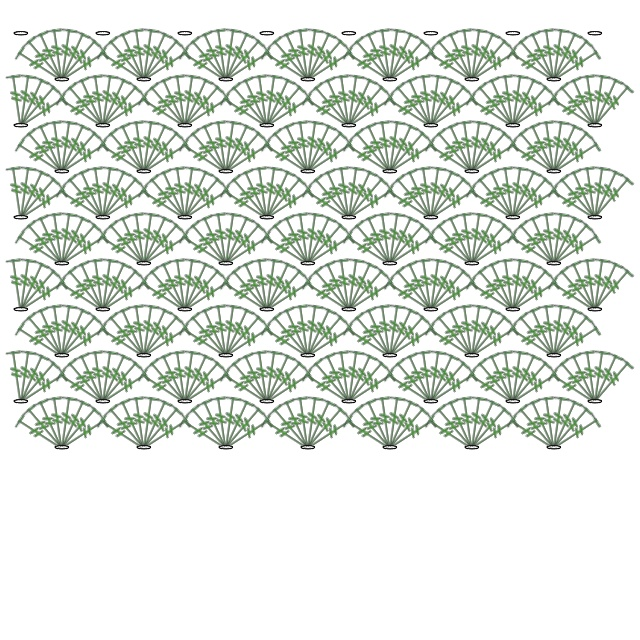chain: (12, 30, 30, 38), (94, 30, 112, 38), (176, 30, 194, 38), (258, 30, 276, 38), (340, 30, 358, 38), (422, 30, 440, 38), (504, 30, 522, 38), (586, 30, 604, 38), (53, 76, 71, 84), (135, 76, 153, 84), (217, 76, 235, 84), (299, 76, 317, 84), (381, 76, 399, 84), (463, 76, 481, 84), (545, 76, 563, 84), (12, 122, 30, 130), (94, 122, 112, 130), (176, 122, 194, 130), (258, 122, 276, 130), (340, 122, 358, 130), (422, 122, 440, 130), (504, 122, 522, 130), (586, 122, 604, 130), (53, 168, 71, 176), (135, 168, 153, 176), (217, 168, 235, 176), (299, 168, 317, 176), (381, 168, 399, 176), (463, 168, 481, 176), (545, 168, 563, 176), (12, 214, 30, 222), (94, 214, 112, 222), (176, 214, 194, 222), (258, 214, 276, 222), (340, 214, 358, 222), (422, 214, 440, 222), (504, 214, 522, 222), (586, 214, 604, 222), (53, 260, 71, 268), (135, 260, 153, 268), (217, 260, 235, 268), (299, 260, 317, 268), (381, 260, 399, 268), (463, 260, 481, 268), (545, 260, 563, 268), (12, 306, 30, 314), (94, 306, 112, 314), (176, 306, 194, 314), (258, 306, 276, 314), (340, 306, 358, 314), (422, 306, 440, 314), (504, 306, 522, 314), (586, 306, 604, 314), (53, 352, 71, 360), (135, 352, 153, 360), (217, 352, 235, 360), (299, 352, 317, 360), (381, 352, 399, 360), (463, 352, 481, 360), (545, 352, 563, 360), (12, 398, 30, 406), (94, 398, 112, 406), (176, 398, 194, 406), (258, 398, 276, 406), (340, 398, 358, 406), (422, 398, 440, 406), (504, 398, 522, 406), (586, 398, 604, 406), (53, 444, 71, 452), (135, 444, 153, 452), (217, 444, 235, 452), (299, 444, 317, 452), (381, 444, 399, 452), (463, 444, 481, 452), (545, 444, 563, 452)
fan: (21, 35, 69, 86), (55, 35, 103, 86), (103, 35, 151, 86), (137, 35, 185, 86), (185, 35, 233, 86), (219, 35, 267, 86), (267, 35, 315, 86), (301, 35, 349, 86), (349, 35, 397, 86), (383, 35, 431, 86), (431, 35, 479, 86), (465, 35, 513, 86), (513, 35, 561, 86), (547, 35, 595, 86), (14, 81, 62, 132), (62, 81, 110, 132), (96, 81, 144, 132), (144, 81, 192, 132), (178, 81, 226, 132), (226, 81, 274, 132), (260, 81, 308, 132), (308, 81, 356, 132), (342, 81, 390, 132), (390, 81, 438, 132), (424, 81, 472, 132), (472, 81, 520, 132), (506, 81, 554, 132), (554, 81, 602, 132), (588, 81, 636, 132), (21, 127, 69, 178), (55, 127, 103, 178), (103, 127, 151, 178), (137, 127, 185, 178), (185, 127, 233, 178), (219, 127, 267, 178), (267, 127, 315, 178), (301, 127, 349, 178), (349, 127, 397, 178), (383, 127, 431, 178), (431, 127, 479, 178), (465, 127, 513, 178), (513, 127, 561, 178), (547, 127, 595, 178), (14, 173, 62, 224), (62, 173, 110, 224), (96, 173, 144, 224), (144, 173, 192, 224), (178, 173, 226, 224), (226, 173, 274, 224), (260, 173, 308, 224), (308, 173, 356, 224), (342, 173, 390, 224), (390, 173, 438, 224), (424, 173, 472, 224), (472, 173, 520, 224), (506, 173, 554, 224), (554, 173, 602, 224), (588, 173, 636, 224), (21, 219, 69, 270), (55, 219, 103, 270), (103, 219, 151, 270), (137, 219, 185, 270), (185, 219, 233, 270), (219, 219, 267, 270), (267, 219, 315, 270), (301, 219, 349, 270), (349, 219, 397, 270), (383, 219, 431, 270), (431, 219, 479, 270), (465, 219, 513, 270), (513, 219, 561, 270), (547, 219, 595, 270), (14, 265, 62, 316), (62, 265, 110, 316), (96, 265, 144, 316), (144, 265, 192, 316), (178, 265, 226, 316), (226, 265, 274, 316), (260, 265, 308, 316), (308, 265, 356, 316), (342, 265, 390, 316), (390, 265, 438, 316), (424, 265, 472, 316), (472, 265, 520, 316), (506, 265, 554, 316), (554, 265, 602, 316), (588, 265, 636, 316), (21, 311, 69, 362), (55, 311, 103, 362), (103, 311, 151, 362), (137, 311, 185, 362), (185, 311, 233, 362), (219, 311, 267, 362), (267, 311, 315, 362), (301, 311, 349, 362), (349, 311, 397, 362), (383, 311, 431, 362), (431, 311, 479, 362), (465, 311, 513, 362), (513, 311, 561, 362), (547, 311, 595, 362), (14, 357, 62, 408), (62, 357, 110, 408), (96, 357, 144, 408), (144, 357, 192, 408), (178, 357, 226, 408), (226, 357, 274, 408), (260, 357, 308, 408), (308, 357, 356, 408), (342, 357, 390, 408), (390, 357, 438, 408), (424, 357, 472, 408), (472, 357, 520, 408), (506, 357, 554, 408), (554, 357, 602, 408), (588, 357, 636, 408), (21, 403, 69, 454), (55, 403, 103, 454), (103, 403, 151, 454), (137, 403, 185, 454), (185, 403, 233, 454), (219, 403, 267, 454), (267, 403, 315, 454), (301, 403, 349, 454), (349, 403, 397, 454), (383, 403, 431, 454), (431, 403, 479, 454), (465, 403, 513, 454), (513, 403, 561, 454), (547, 403, 595, 454), (13, 44, 67, 88), (57, 44, 111, 88), (95, 44, 149, 88), (139, 44, 193, 88), (177, 44, 231, 88), (221, 44, 275, 88), (259, 44, 313, 88), (303, 44, 357, 88), (341, 44, 395, 88), (385, 44, 439, 88), (423, 44, 477, 88), (467, 44, 521, 88), (505, 44, 559, 88), (549, 44, 603, 88), (16, 90, 70, 134), (54, 90, 108, 134), (98, 90, 152, 134), (136, 90, 190, 134), (180, 90, 234, 134), (218, 90, 272, 134), (262, 90, 316, 134), (300, 90, 354, 134), (344, 90, 398, 134), (382, 90, 436, 134), (426, 90, 480, 134), (464, 90, 518, 134), (508, 90, 562, 134), (546, 90, 600, 134), (13, 136, 67, 180), (57, 136, 111, 180), (95, 136, 149, 180), (139, 136, 193, 180), (177, 136, 231, 180), (221, 136, 275, 180), (259, 136, 313, 180), (303, 136, 357, 180), (341, 136, 395, 180), (385, 136, 439, 180), (423, 136, 477, 180), (467, 136, 521, 180), (505, 136, 559, 180), (549, 136, 603, 180), (16, 182, 70, 226), (54, 182, 108, 226), (98, 182, 152, 226), (136, 182, 190, 226), (180, 182, 234, 226), (218, 182, 272, 226), (262, 182, 316, 226), (300, 182, 354, 226), (344, 182, 398, 226), (382, 182, 436, 226), (426, 182, 480, 226), (464, 182, 518, 226), (508, 182, 562, 226), (546, 182, 600, 226), (13, 228, 67, 272), (57, 228, 111, 272), (95, 228, 149, 272), (139, 228, 193, 272), (177, 228, 231, 272), (221, 228, 275, 272), (259, 228, 313, 272), (303, 228, 357, 272), (341, 228, 395, 272), (385, 228, 439, 272), (423, 228, 477, 272), (467, 228, 521, 272), (505, 228, 559, 272), (549, 228, 603, 272), (16, 274, 70, 318), (54, 274, 108, 318), (98, 274, 152, 318), (136, 274, 190, 318), (180, 274, 234, 318), (218, 274, 272, 318), (262, 274, 316, 318), (300, 274, 354, 318), (344, 274, 398, 318), (382, 274, 436, 318), (426, 274, 480, 318), (464, 274, 518, 318), (508, 274, 562, 318), (546, 274, 600, 318), (13, 320, 67, 364), (57, 320, 111, 364), (95, 320, 149, 364), (139, 320, 193, 364), (177, 320, 231, 364), (221, 320, 275, 364), (259, 320, 313, 364), (303, 320, 357, 364), (341, 320, 395, 364), (385, 320, 439, 364), (423, 320, 477, 364), (467, 320, 521, 364), (505, 320, 559, 364), (549, 320, 603, 364), (16, 366, 70, 410), (54, 366, 108, 410), (98, 366, 152, 410), (136, 366, 190, 410), (180, 366, 234, 410), (218, 366, 272, 410), (262, 366, 316, 410), (300, 366, 354, 410), (344, 366, 398, 410), (382, 366, 436, 410), (426, 366, 480, 410), (464, 366, 518, 410), (508, 366, 562, 410), (546, 366, 600, 410), (13, 412, 67, 456), (57, 412, 111, 456), (95, 412, 149, 456), (139, 412, 193, 456), (177, 412, 231, 456), (221, 412, 275, 456), (259, 412, 313, 456), (303, 412, 357, 456), (341, 412, 395, 456), (385, 412, 439, 456), (423, 412, 477, 456), (467, 412, 521, 456), (505, 412, 559, 456), (549, 412, 603, 456), (32, 29, 70, 84), (54, 29, 92, 84), (114, 29, 152, 84), (136, 29, 174, 84), (196, 29, 234, 84), (218, 29, 256, 84), (278, 29, 316, 84), (300, 29, 338, 84), (360, 29, 398, 84), (382, 29, 420, 84), (442, 29, 480, 84), (464, 29, 502, 84), (524, 29, 562, 84), (546, 29, 584, 84), (13, 75, 51, 130), (73, 75, 111, 130), (95, 75, 133, 130), (155, 75, 193, 130), (177, 75, 215, 130), (237, 75, 275, 130), (259, 75, 297, 130), (319, 75, 357, 130), (341, 75, 379, 130), (401, 75, 439, 130), (423, 75, 461, 130), (483, 75, 521, 130), (505, 75, 543, 130), (565, 75, 603, 130), (587, 75, 625, 130), (32, 121, 70, 176), (54, 121, 92, 176), (114, 121, 152, 176), (136, 121, 174, 176), (196, 121, 234, 176), (218, 121, 256, 176), (278, 121, 316, 176), (300, 121, 338, 176), (360, 121, 398, 176), (382, 121, 420, 176), (442, 121, 480, 176), (464, 121, 502, 176), (524, 121, 562, 176), (546, 121, 584, 176), (13, 167, 51, 222), (73, 167, 111, 222), (95, 167, 133, 222), (155, 167, 193, 222), (177, 167, 215, 222), (237, 167, 275, 222), (259, 167, 297, 222), (319, 167, 357, 222), (341, 167, 379, 222), (401, 167, 439, 222), (423, 167, 461, 222), (483, 167, 521, 222), (505, 167, 543, 222), (565, 167, 603, 222), (587, 167, 625, 222), (32, 213, 70, 268), (54, 213, 92, 268), (114, 213, 152, 268), (136, 213, 174, 268), (196, 213, 234, 268), (218, 213, 256, 268), (278, 213, 316, 268), (300, 213, 338, 268), (360, 213, 398, 268), (382, 213, 420, 268), (442, 213, 480, 268), (464, 213, 502, 268), (524, 213, 562, 268), (546, 213, 584, 268), (13, 259, 51, 314), (73, 259, 111, 314), (95, 259, 133, 314), (155, 259, 193, 314), (177, 259, 215, 314), (237, 259, 275, 314), (259, 259, 297, 314), (319, 259, 357, 314), (341, 259, 379, 314), (401, 259, 439, 314), (423, 259, 461, 314), (483, 259, 521, 314), (505, 259, 543, 314), (565, 259, 603, 314), (587, 259, 625, 314), (32, 305, 70, 360), (54, 305, 92, 360), (114, 305, 152, 360), (136, 305, 174, 360), (196, 305, 234, 360), (218, 305, 256, 360), (278, 305, 316, 360), (300, 305, 338, 360), (360, 305, 398, 360), (382, 305, 420, 360), (442, 305, 480, 360), (464, 305, 502, 360), (524, 305, 562, 360), (546, 305, 584, 360), (13, 351, 51, 406), (73, 351, 111, 406), (95, 351, 133, 406), (155, 351, 193, 406), (177, 351, 215, 406), (237, 351, 275, 406), (259, 351, 297, 406), (319, 351, 357, 406), (341, 351, 379, 406), (401, 351, 439, 406), (423, 351, 461, 406), (483, 351, 521, 406), (505, 351, 543, 406), (565, 351, 603, 406), (587, 351, 625, 406), (32, 397, 70, 452), (54, 397, 92, 452), (114, 397, 152, 452), (136, 397, 174, 452), (196, 397, 234, 452), (218, 397, 256, 452), (278, 397, 316, 452), (300, 397, 338, 452), (360, 397, 398, 452), (382, 397, 420, 452), (442, 397, 480, 452), (464, 397, 502, 452), (524, 397, 562, 452), (546, 397, 584, 452), (46, 27, 71, 81), (53, 27, 78, 81), (128, 27, 153, 81), (135, 27, 160, 81), (210, 27, 235, 81), (217, 27, 242, 81), (292, 27, 317, 81), (299, 27, 324, 81), (374, 27, 399, 81), (381, 27, 406, 81), (456, 27, 481, 81), (463, 27, 488, 81), (538, 27, 563, 81), (545, 27, 570, 81), (5, 73, 30, 127), (12, 73, 37, 127), (87, 73, 112, 127), (94, 73, 119, 127), (169, 73, 194, 127), (176, 73, 201, 127), (251, 73, 276, 127), (258, 73, 283, 127), (333, 73, 358, 127), (340, 73, 365, 127), (415, 73, 440, 127), (422, 73, 447, 127), (497, 73, 522, 127), (504, 73, 529, 127), (579, 73, 604, 127), (586, 73, 611, 127), (46, 119, 71, 173), (53, 119, 78, 173), (128, 119, 153, 173), (135, 119, 160, 173), (210, 119, 235, 173), (217, 119, 242, 173), (292, 119, 317, 173), (299, 119, 324, 173), (374, 119, 399, 173), (381, 119, 406, 173), (456, 119, 481, 173), (463, 119, 488, 173), (538, 119, 563, 173), (545, 119, 570, 173), (5, 165, 30, 219), (12, 165, 37, 219), (87, 165, 112, 219), (94, 165, 119, 219), (169, 165, 194, 219), (176, 165, 201, 219), (251, 165, 276, 219), (258, 165, 283, 219), (333, 165, 358, 219), (340, 165, 365, 219), (415, 165, 440, 219), (422, 165, 447, 219), (497, 165, 522, 219), (504, 165, 529, 219), (579, 165, 604, 219), (586, 165, 611, 219), (46, 211, 71, 265), (53, 211, 78, 265), (128, 211, 153, 265), (135, 211, 160, 265), (210, 211, 235, 265), (217, 211, 242, 265), (292, 211, 317, 265), (299, 211, 324, 265), (374, 211, 399, 265), (381, 211, 406, 265), (456, 211, 481, 265), (463, 211, 488, 265), (538, 211, 563, 265), (545, 211, 570, 265), (5, 257, 30, 311), (12, 257, 37, 311), (87, 257, 112, 311), (94, 257, 119, 311), (169, 257, 194, 311), (176, 257, 201, 311), (251, 257, 276, 311), (258, 257, 283, 311), (333, 257, 358, 311), (340, 257, 365, 311), (415, 257, 440, 311), (422, 257, 447, 311), (497, 257, 522, 311), (504, 257, 529, 311), (579, 257, 604, 311), (586, 257, 611, 311), (46, 303, 71, 357), (53, 303, 78, 357), (128, 303, 153, 357), (135, 303, 160, 357), (210, 303, 235, 357), (217, 303, 242, 357), (292, 303, 317, 357), (299, 303, 324, 357), (374, 303, 399, 357), (381, 303, 406, 357), (456, 303, 481, 357), (463, 303, 488, 357), (538, 303, 563, 357), (545, 303, 570, 357), (5, 349, 30, 403), (12, 349, 37, 403), (87, 349, 112, 403), (94, 349, 119, 403), (169, 349, 194, 403), (176, 349, 201, 403), (251, 349, 276, 403), (258, 349, 283, 403), (333, 349, 358, 403), (340, 349, 365, 403), (415, 349, 440, 403), (422, 349, 447, 403), (497, 349, 522, 403), (504, 349, 529, 403), (579, 349, 604, 403), (586, 349, 611, 403), (46, 395, 71, 449), (53, 395, 78, 449), (128, 395, 153, 449), (135, 395, 160, 449), (210, 395, 235, 449), (217, 395, 242, 449), (292, 395, 317, 449), (299, 395, 324, 449), (374, 395, 399, 449), (381, 395, 406, 449), (456, 395, 481, 449), (463, 395, 488, 449), (538, 395, 563, 449), (545, 395, 570, 449)
